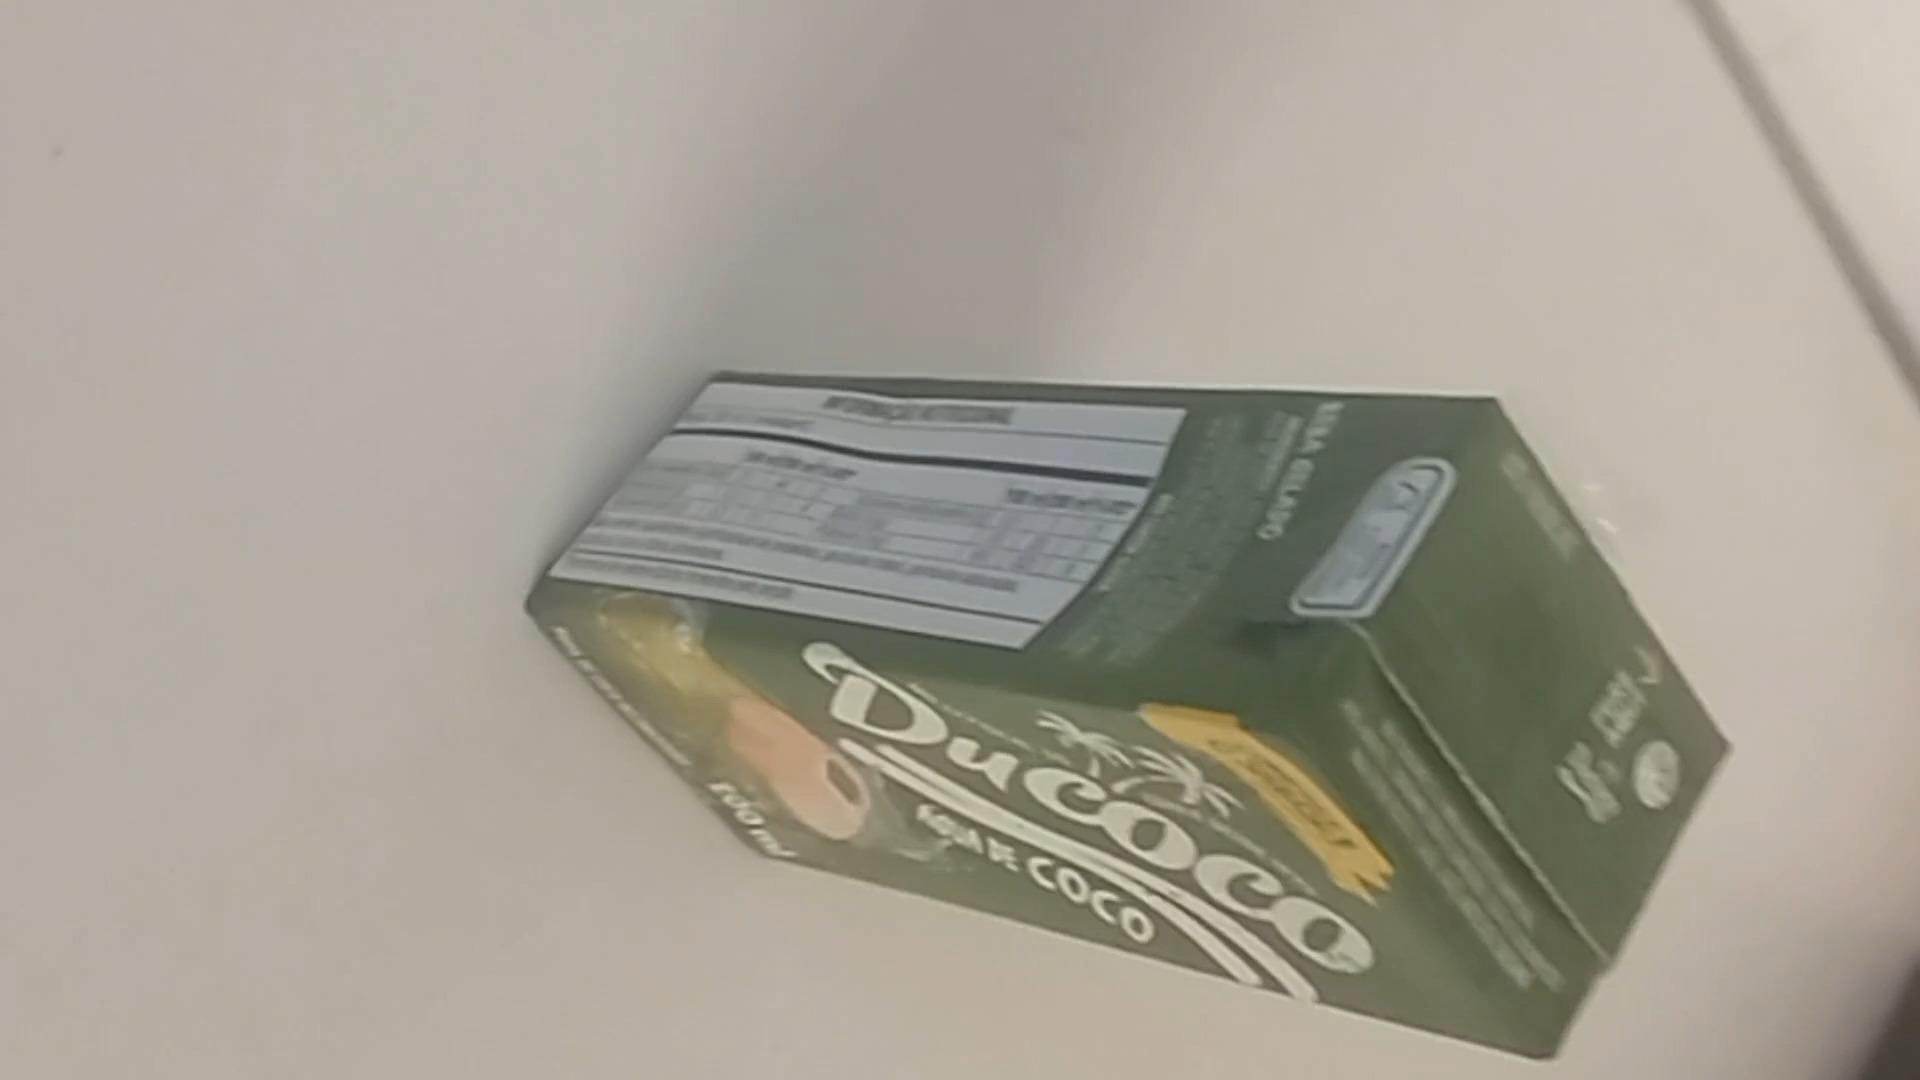coco: (535, 375, 1730, 1069)
